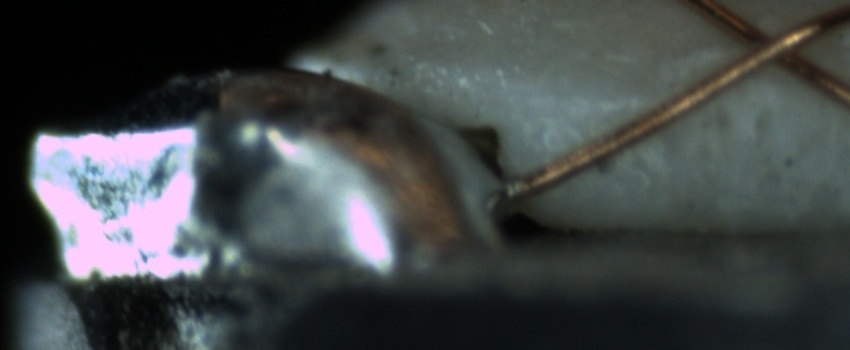CL: (718, 11, 822, 82)
DL: (538, 75, 663, 132)
